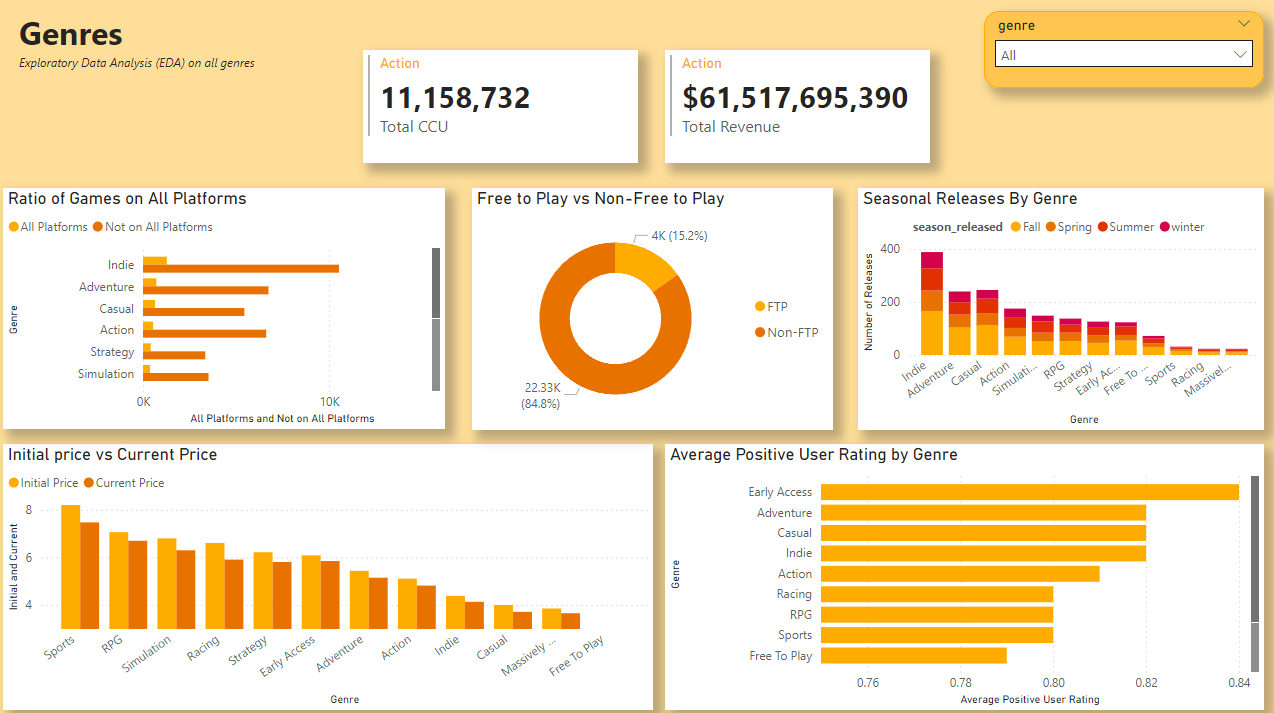

Layout of this report page (visuals, bound fields, positions):
{"tool":"powerbi","page":{"name":"Genres","canvas":[1280,720],"ordinal":2},"visuals":[{"type":"textbox","box":[11.4,6.8,514.7,89.7],"z":0},{"type":"slicer","fields":{"Values":["steam_info genre_details.genre"]},"box":[986.4,13.2,279.6,76.9],"z":1},{"type":"clusteredColumnChart","title":"Initial price vs Current Price","fields":{"Category":["steam_info genre_details.genre"],"Y":["Avg(steam_info genre_details.avg_initial_price)","Avg(steam_info genre_details.avg_current_price)"]},"box":[5.4,445.8,649.3,266.4],"z":3},{"type":"donutChart","title":"Free to Play vs Non-Free to Play","fields":{"Y":["Sum(steam_info genre_details.count_ftp)","Sum(steam_info genre_details.count_non_ftp)"]},"box":[473.8,189.5,361.2,242.3],"z":4},{"type":"columnChart","title":"Seasonal Releases By Genre","fields":{"Category":["steam_info seasonal_genre_release.genre"],"Y":["Avg(steam_info seasonal_genre_release.num_releases)"],"Series":["steam_info seasonal_genre_release.season_released"]},"box":[859.8,189.5,406.2,242.3],"z":5},{"type":"clusteredBarChart","fields":{"Category":["steam_info genre_details.genre"],"Y":["Sum(steam_info genre_details.avg_pos_user_rating)"]},"box":[667.2,445.8,598.8,266.4],"z":6},{"type":"clusteredBarChart","title":"Ratio of Games on All Platforms","fields":{"Category":["steam_info genre_details.genre"],"Y":["Avg(steam_info genre_details.num_games_all_platforms)","Avg(steam_info genre_details.num_games_not_all_platforms)"]},"box":[5.4,189.5,441.2,241.6],"z":7},{"type":"multiRowCard","fields":{"Values":["steam_info genre_details.Highest CCU Genre","Sum(steam_info genre_details.total_ccu)"]},"box":[365,52,275,112.6],"z":8},{"type":"multiRowCard","fields":{"Values":["steam_info genre_details.Highest Revenue Genre","Sum(steam_info genre_details.total_revenue)"]},"box":[667.2,52,264.9,112.6],"z":9}]}

Visuals, with their boxes in screenshot pixels (x1, y1, x2, y2), scaled from the page's 1280x720 canvas onto the 1274x713 screenshot:
textbox: (11, 7, 524, 96)
slicer - steam_info genre_details.genre: (982, 13, 1260, 89)
"Initial price vs Current Price" clusteredColumnChart: (5, 441, 652, 705)
"Free to Play vs Non-Free to Play" donutChart: (472, 188, 831, 428)
"Seasonal Releases By Genre" columnChart: (856, 188, 1260, 428)
clusteredBarChart - steam_info genre_details.genre x Sum(steam_info genre_details.avg_pos_user_rating): (664, 441, 1260, 705)
"Ratio of Games on All Platforms" clusteredBarChart: (5, 188, 445, 427)
multiRowCard - steam_info genre_details.Highest CCU Genre x Sum(steam_info genre_details.total_ccu): (363, 51, 637, 163)
multiRowCard - steam_info genre_details.Highest Revenue Genre x Sum(steam_info genre_details.total_revenue): (664, 51, 928, 163)
